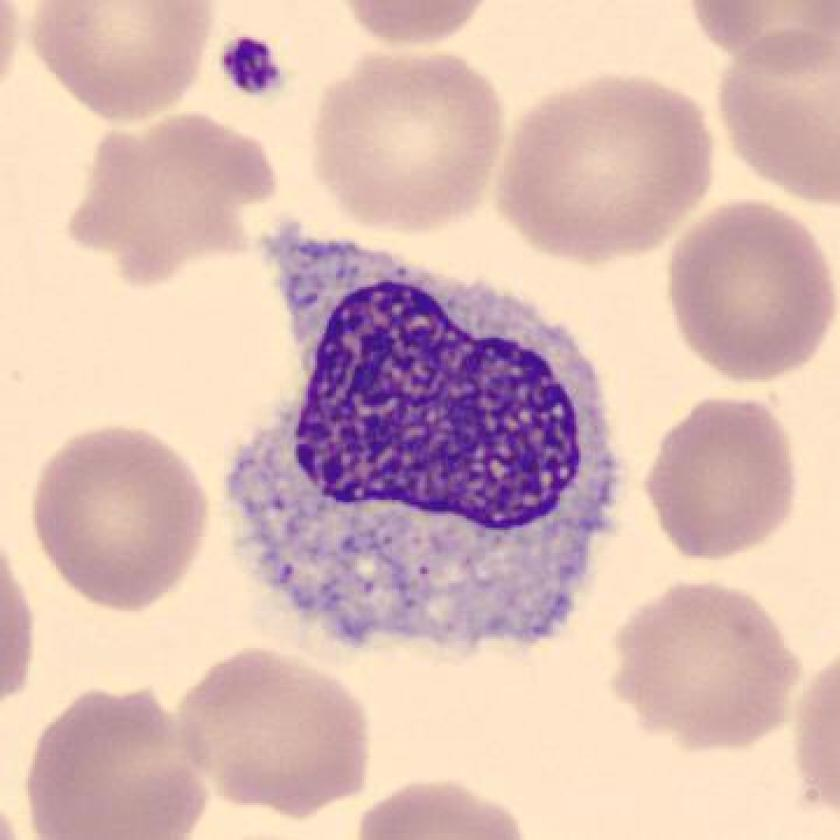monocyte: (199, 196, 643, 682)
